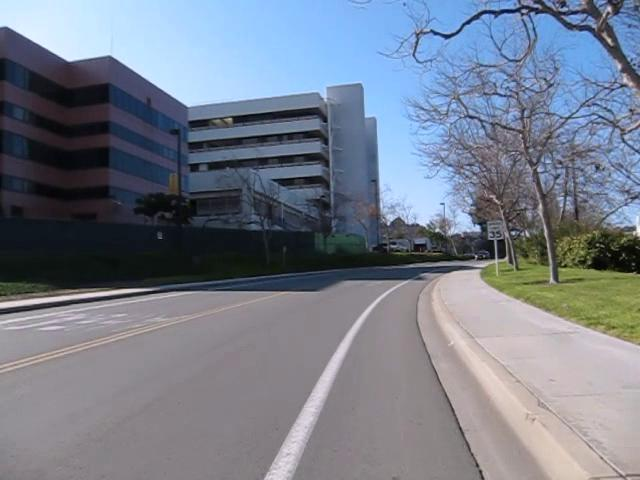speedLimit35: (486, 219, 504, 241)
